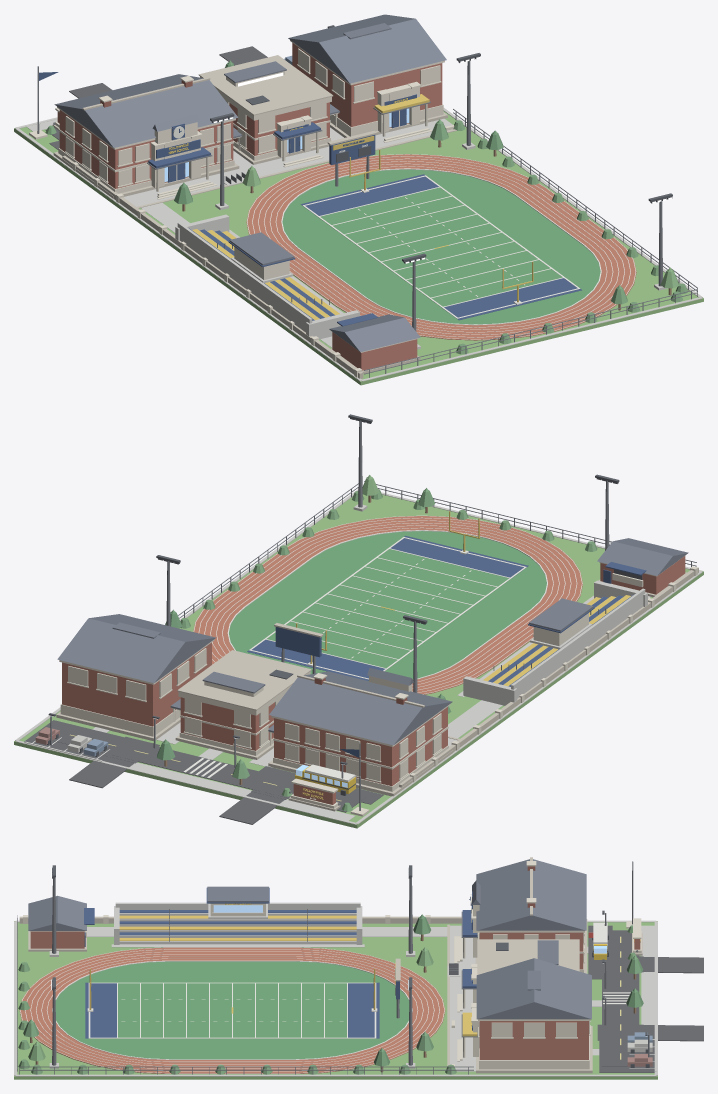
Rendered from high-school.glb.
3 views of the same model, one above another, from view 1: azimuth 30°, elevation 25°; view 2: azimuth 150°, elevation 25°; view 3: azimuth 270°, elevation 25° (orthographic). The views are drawn at different scales.
Parts seen in each view (by area): view 1: hs_infield.001, hs_track.001, hs_field.001, hs_campus_pad.001, hs_hall_roof.001, hs_gym_roof.001, hs_wing_coping.001, hs_gym_body.001, hs_quad_paving.001, hs_hall_body.001, hs_end_zone_south.001, hs_field_house_roof.001 (+28 smaller); view 2: hs_infield.001, hs_field.001, hs_track.001, hs_campus_pad.001, hs_hall_roof.001, hs_gym_roof.001, hs_drive_cross.001, hs_gym_body.001, hs_wing_coping.001, hs_hall_body.001, hs_end_zone_south.001, hs_retaining_wall.001 (+23 smaller); view 3: hs_infield.001, hs_track.001, hs_campus_pad.001, hs_field.001, hs_hall_roof.001, hs_gym_roof.001, hs_drive_cross.001, hs_gym_body.001, hs_wing_coping.001, hs_quad_paving.001, hs_campus_kerb.006, hs_field_house_roof.001 (+45 smaller).
Boxes of the visible parts, x1,y1,x2,y2 form: hs_infield.001: [282, 169, 600, 324]; hs_track.001: [246, 154, 636, 340]; hs_field.001: [320, 187, 562, 307]; hs_campus_pad.001: [14, 111, 703, 385]; hs_hall_roof.001: [54, 74, 237, 147]; hs_gym_roof.001: [288, 14, 446, 83]; hs_wing_coping.001: [198, 55, 333, 115]; hs_gym_body.001: [292, 43, 442, 126]; hs_quad_paving.001: [124, 118, 453, 206]; hs_hall_body.001: [59, 110, 233, 188]; hs_end_zone_south.001: [442, 278, 581, 320]; hs_field_house_roof.001: [329, 314, 420, 352]; hs_infield.001: [229, 531, 546, 679]; hs_field.001: [267, 549, 511, 668]; hs_track.001: [193, 516, 582, 694]; hs_campus_pad.001: [14, 494, 703, 828]; hs_hall_roof.001: [269, 671, 452, 745]; hs_gym_roof.001: [57, 614, 215, 682]; hs_drive_cross.001: [52, 724, 365, 812]; hs_gym_body.001: [62, 642, 211, 726]; hs_wing_coping.001: [177, 650, 311, 710]; hs_hall_body.001: [274, 707, 447, 786]; hs_end_zone_south.001: [390, 535, 528, 577]; hs_retaining_wall.001: [399, 567, 698, 787]; hs_infield.001: [55, 961, 409, 1059]; hs_track.001: [19, 947, 445, 1073]; hs_campus_pad.001: [14, 921, 657, 1079]; hs_field.001: [118, 983, 346, 1037]; hs_hall_roof.001: [476, 859, 586, 930]; hs_gym_roof.001: [476, 958, 591, 1019]; hs_drive_cross.001: [602, 930, 639, 1066]; hs_gym_body.001: [479, 1021, 588, 1059]; hs_wing_coping.001: [477, 939, 579, 974]; hs_quad_paving.001: [450, 925, 475, 1071]; hs_campus_kerb.006: [15, 1074, 656, 1076]; hs_field_house_roof.001: [28, 895, 86, 930].
Bounding box in the file's own units: 64 × 16.82 × 120.
